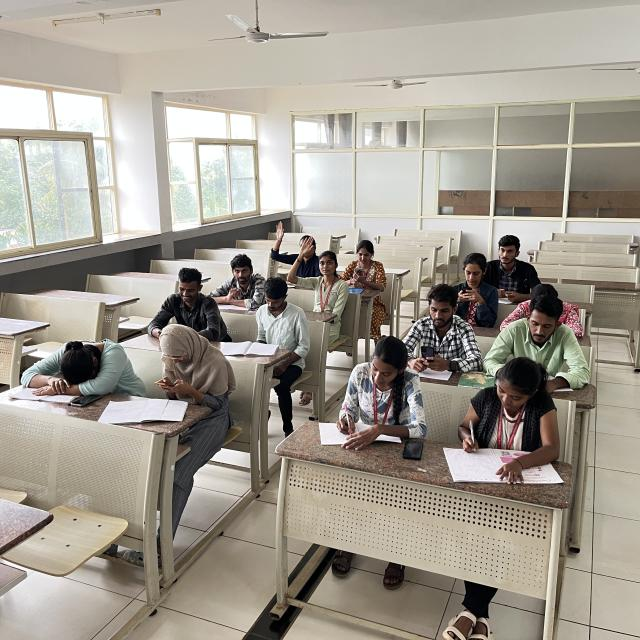Hand Rising: (290, 235, 350, 323), (263, 208, 314, 270)
Reading: (235, 275, 312, 356)
Sleeping: (13, 318, 138, 405)
Using Phone: (138, 312, 232, 408), (401, 281, 484, 378), (440, 250, 506, 328), (340, 238, 392, 300)
Writing: (310, 338, 420, 456), (457, 357, 560, 475)
